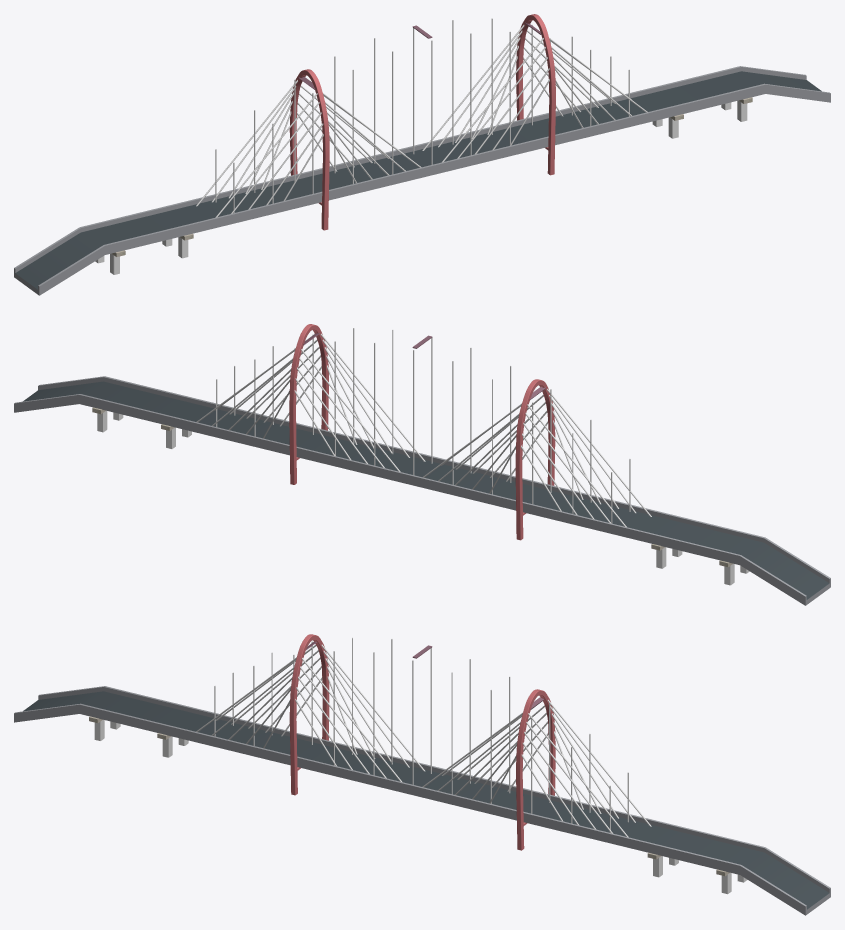
The model's file is bridge4.gltf.
3 renders of one model, top to bottom at view 1: azimuth 30°, elevation 25°; view 2: azimuth 150°, elevation 25°; view 3: azimuth 330°, elevation 25°, orthographic.
Parts seen in each view (by area): view 1: bridge4; view 2: bridge4; view 3: bridge4.
Boxes of the visible parts, bbox=[...] form: bridge4: bbox=[14, 14, 830, 295]; bridge4: bbox=[14, 324, 830, 605]; bridge4: bbox=[14, 634, 830, 915].
Bounding box in the file's own units: 70000 × 13417 × 5472.
6 materials, 1 textured.
